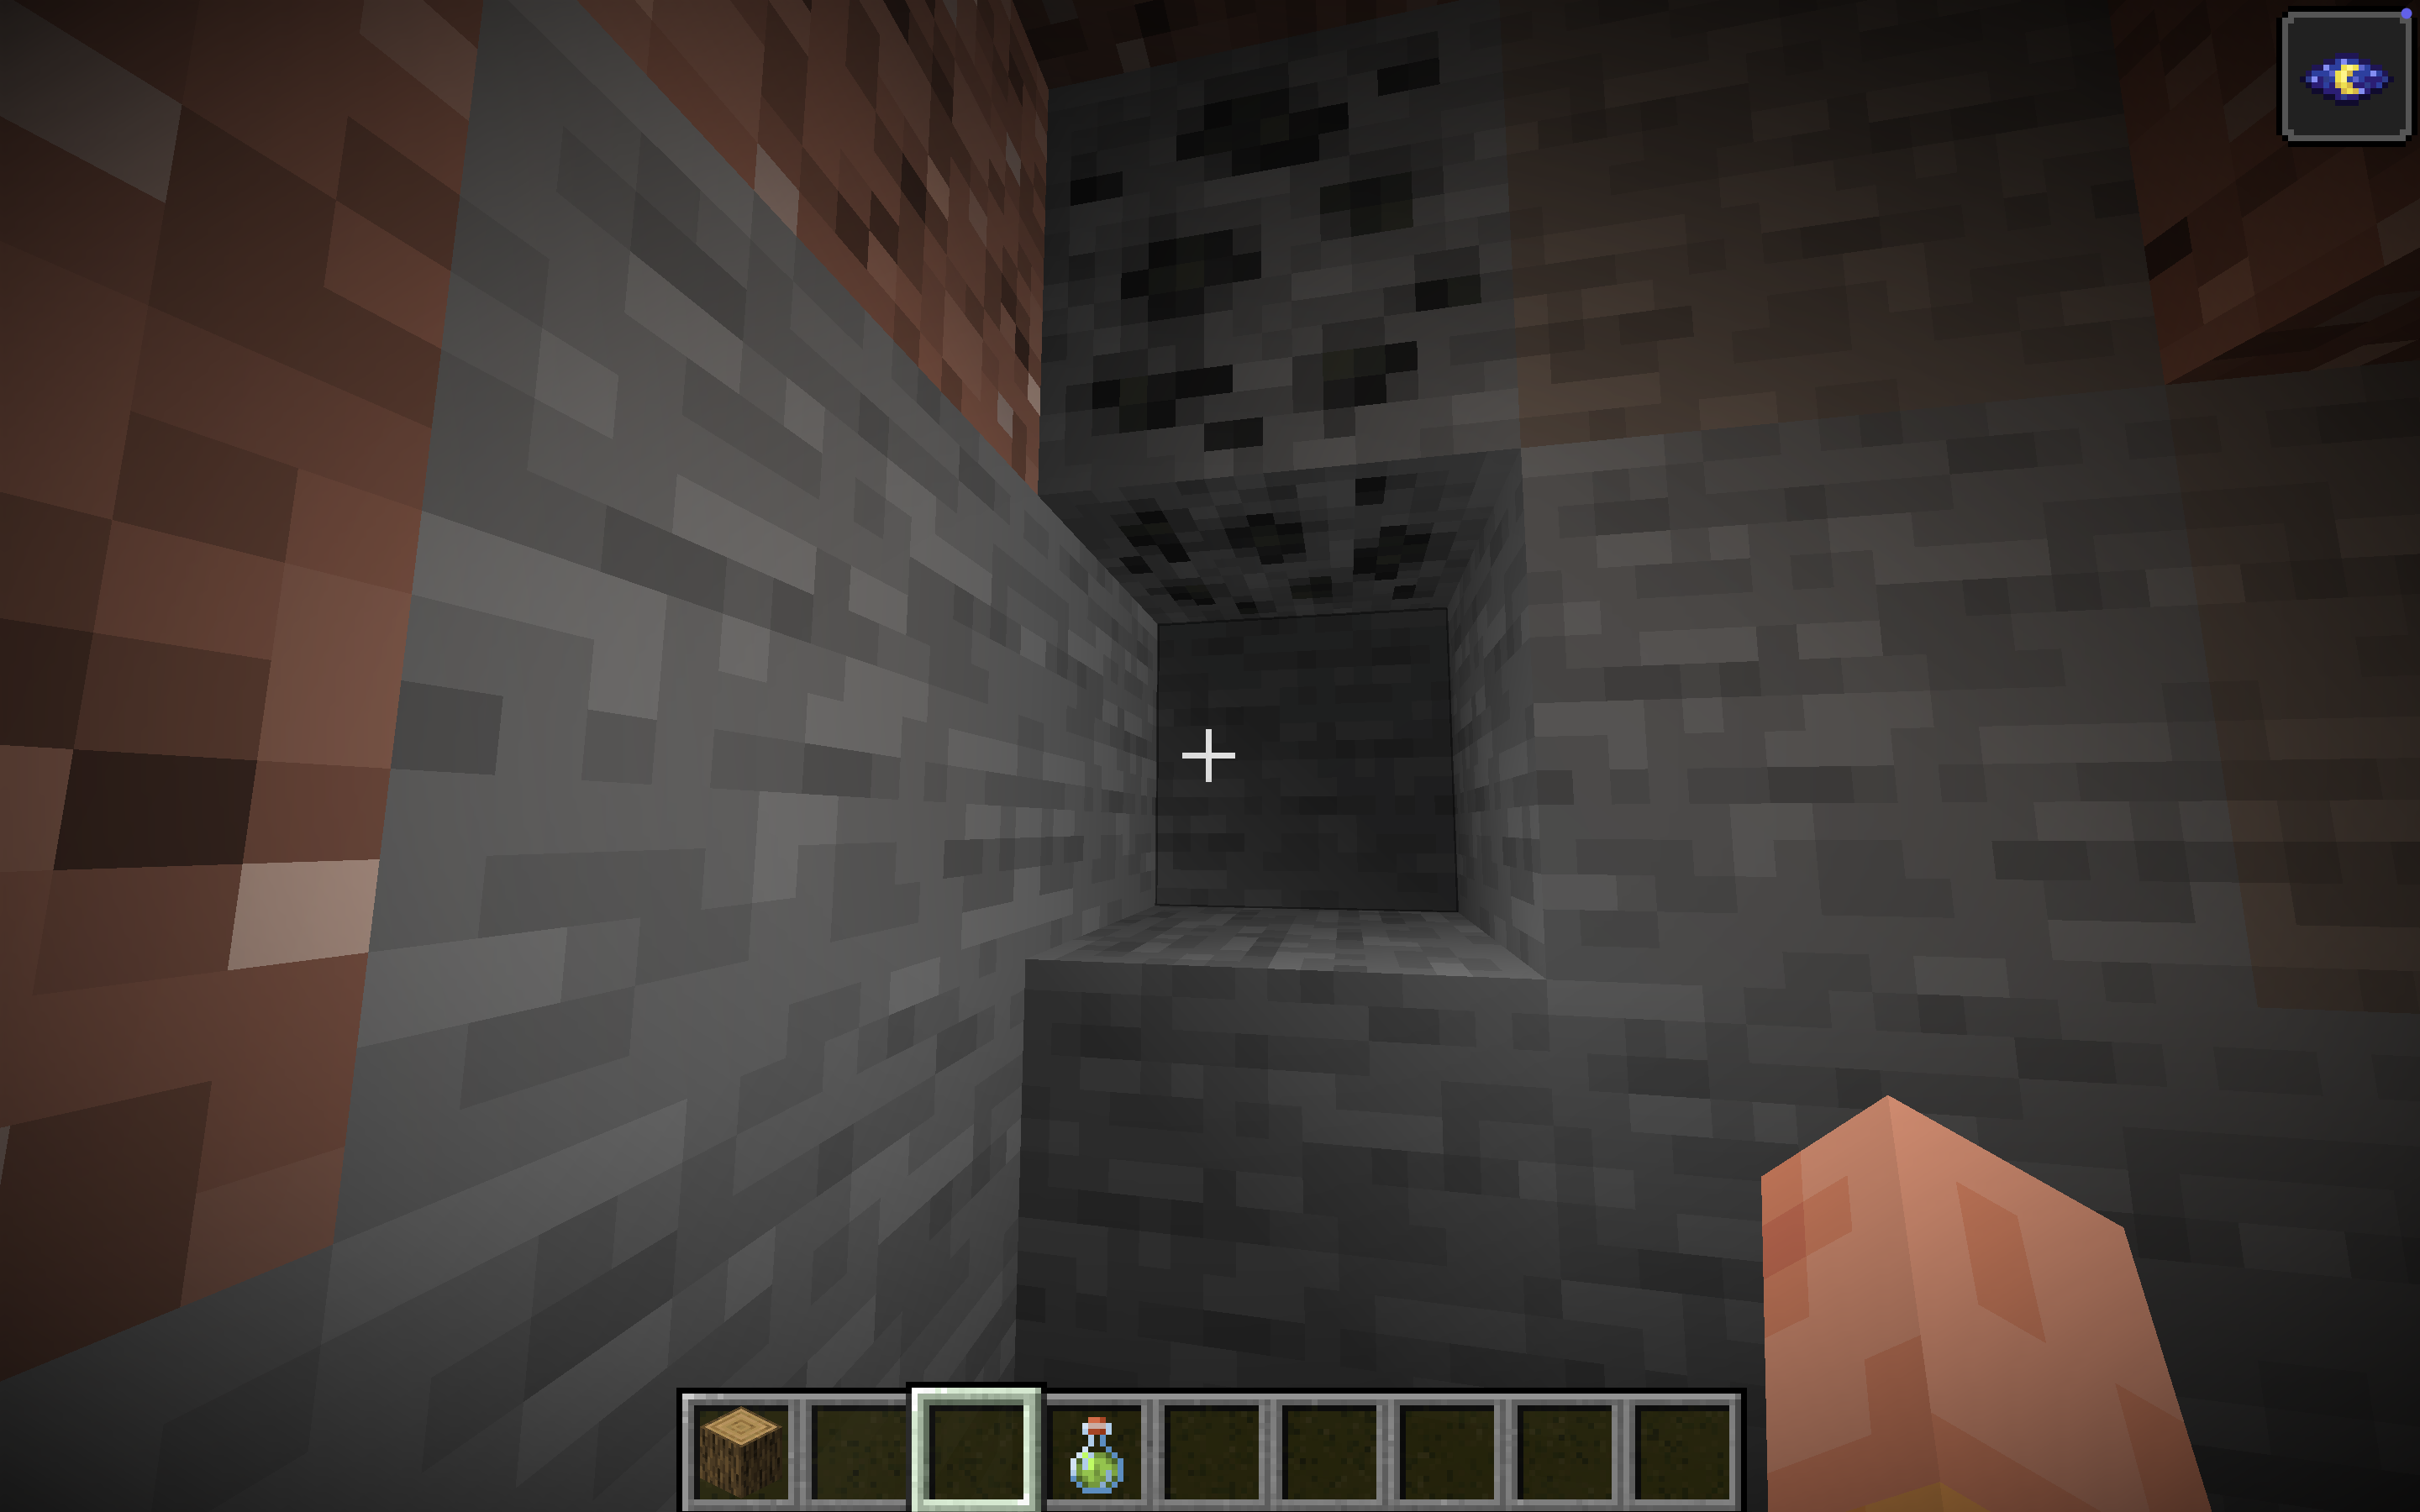coal: (465, 37, 2072, 841)
